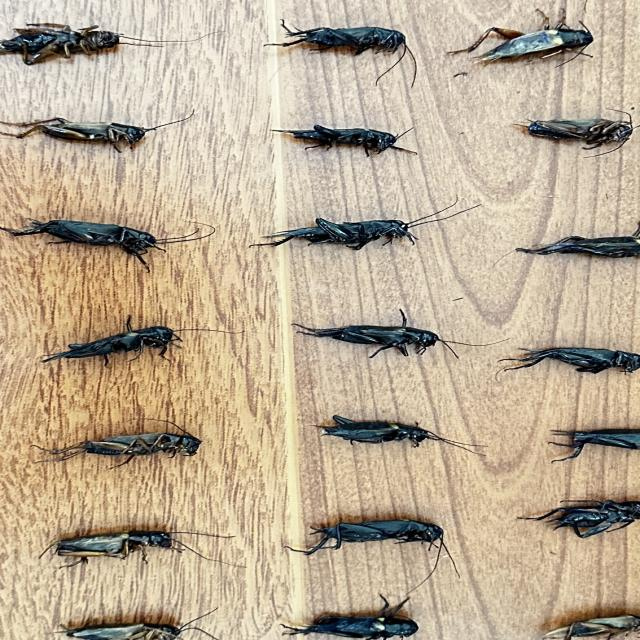no_egg: (9, 220, 157, 255), (304, 519, 442, 554), (0, 24, 120, 64), (268, 218, 413, 250), (14, 117, 148, 150), (45, 326, 173, 360), (297, 325, 440, 355), (289, 607, 418, 640), (528, 500, 640, 538), (319, 415, 457, 445), (48, 431, 201, 458), (483, 28, 592, 61), (282, 124, 397, 155), (523, 118, 633, 150), (505, 347, 640, 373), (277, 26, 405, 53), (55, 530, 173, 557), (525, 234, 640, 259), (551, 428, 640, 458), (546, 615, 640, 640), (65, 623, 183, 640)
